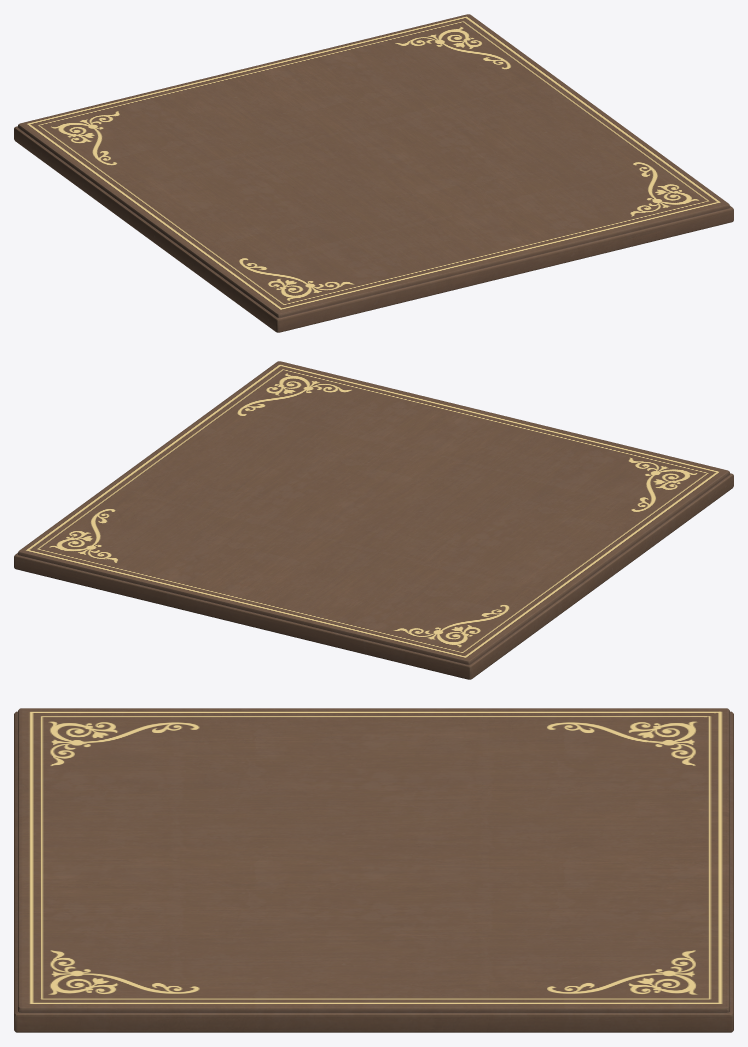
File: ChristmasRoom_TableTop.fbx
The picture shows the model from 3 angles, top to bottom: view 1: azimuth 30°, elevation 25°; view 2: azimuth 150°, elevation 25°; view 3: azimuth 270°, elevation 25°; orthographic projection. The views are drawn at different scales.
Visible parts, largest first — view 1: ChristmasRoom_TableTop; view 2: ChristmasRoom_TableTop; view 3: ChristmasRoom_TableTop.
Part boxes in pixels (<box>): ChristmasRoom_TableTop: <box>14,14,733,332</box>; ChristmasRoom_TableTop: <box>14,361,733,679</box>; ChristmasRoom_TableTop: <box>14,708,733,1032</box>.
Bounding box in the file's own units: 75.84 × 2.81 × 75.84.
